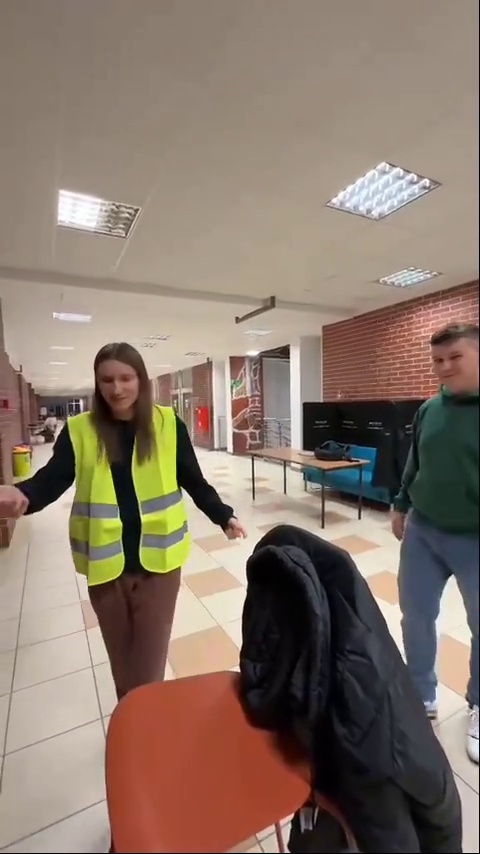no vest: (389, 316, 480, 785)
vest: (63, 338, 208, 683)
